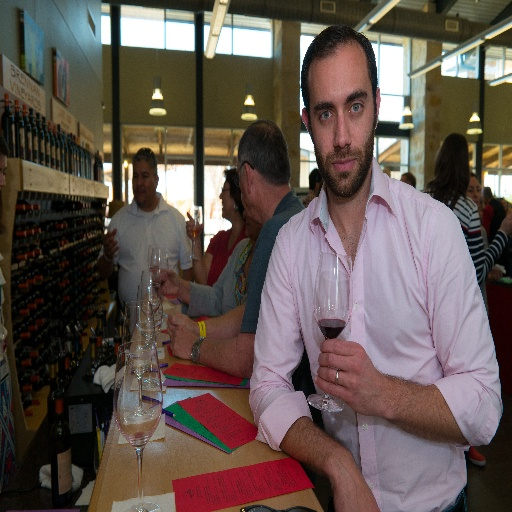hand: (320, 332, 413, 423), (332, 467, 381, 511), (169, 327, 199, 361), (149, 267, 180, 296), (165, 312, 197, 335), (184, 209, 205, 242), (103, 228, 120, 267), (500, 210, 511, 235), (489, 270, 502, 283)
